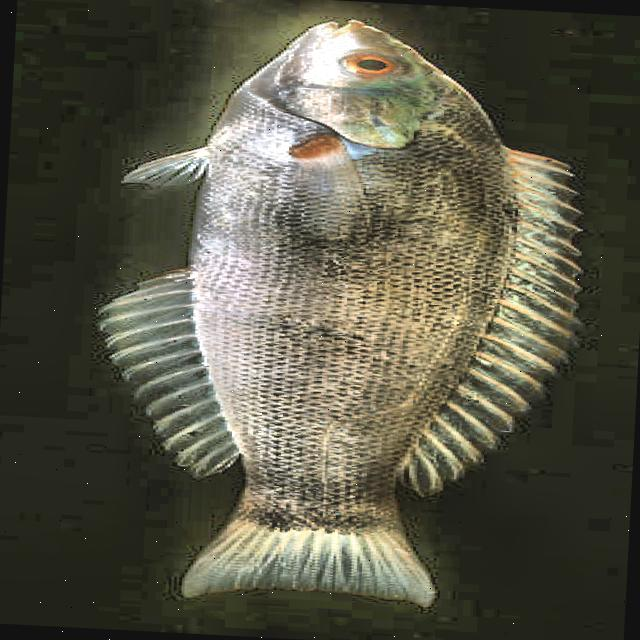fish: (80, 8, 600, 620)
